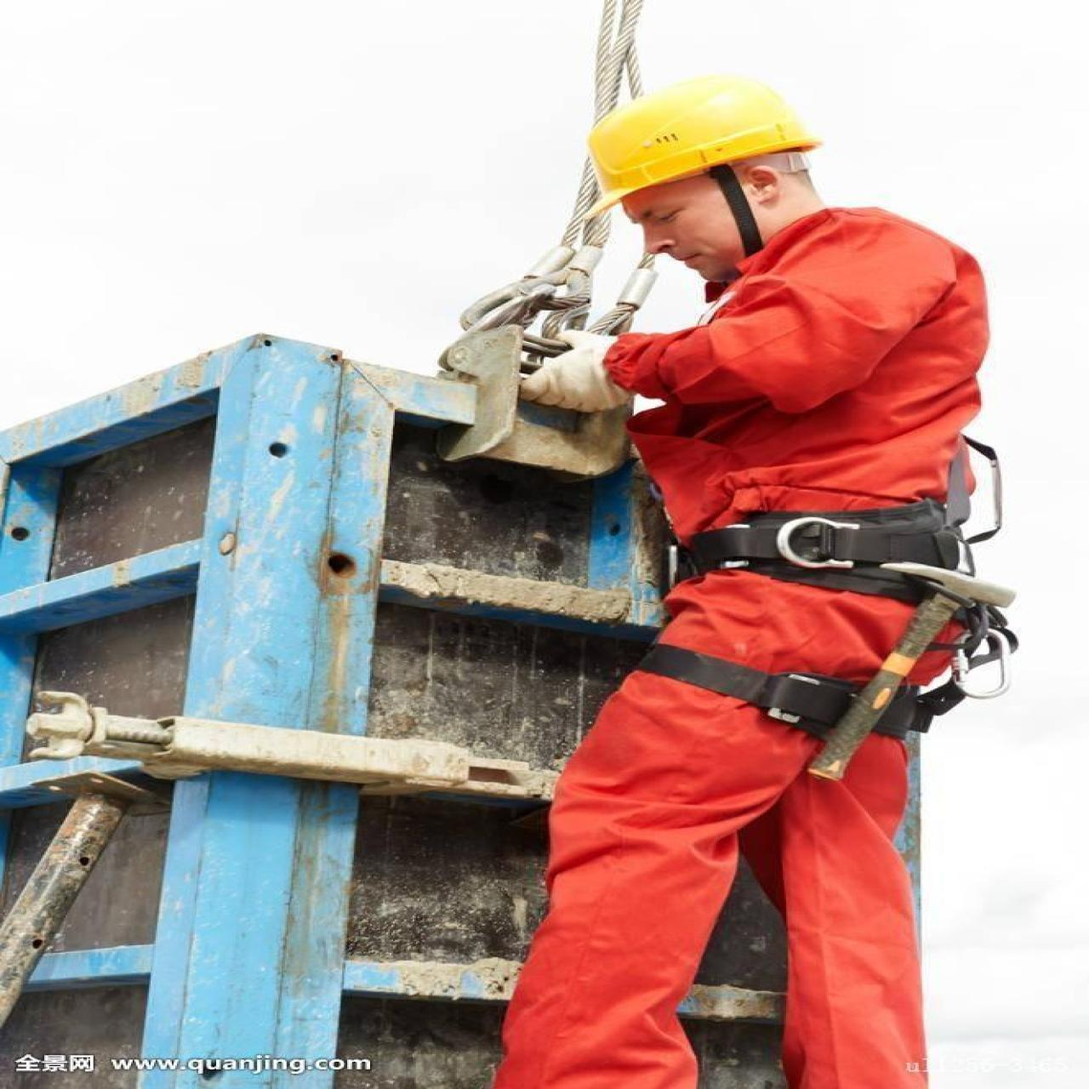NO_Safety_Vest: (648, 233, 985, 630)
Person: (483, 72, 1022, 1083)
